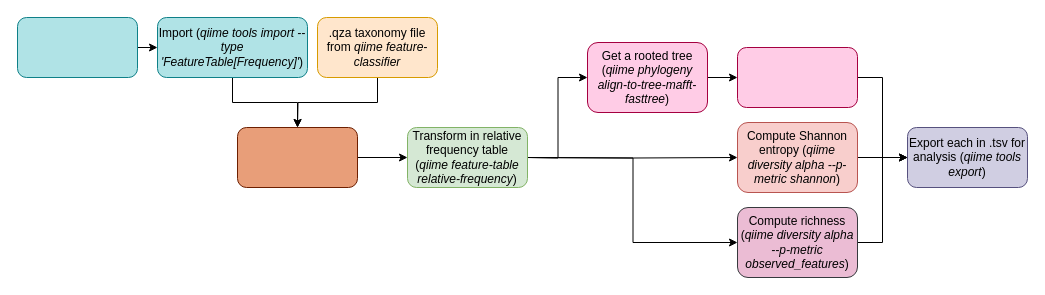
Some shapes in this 1045 by 295 pixel diagram are drawn without their labels. The shapes that lost their labels are listed below. From the top down, each one's centre as x and y in pixels, then its label:
(x=77, y=47): Export the dada2 output table in .biom ( qiime tools export )
(x=797, y=77): Compute Faith's PD ( qiime diversity alpha-phylogenetic )
(x=297, y=157): Collapse both .qza ( qiime taxa collapse )
